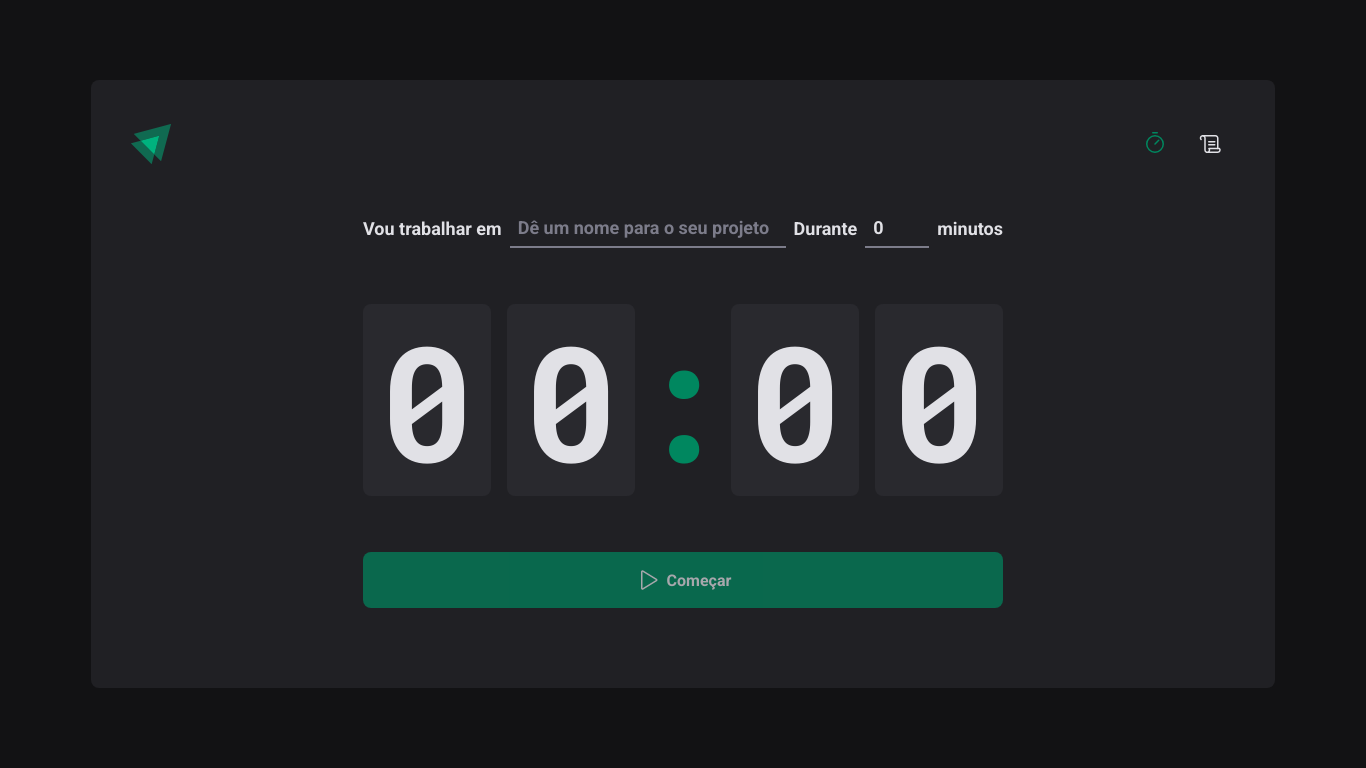
Test: form Tests › create new cycle test
Check: the button with test id "startCountdown" is disabled, box [363,552,1003,608]
Check: the form with test id "createCycle" is shown, box [363,208,1003,608]
Type "Criar Projeto" into the field with test id "taskName" at point(648, 228), box [510,208,786,248]
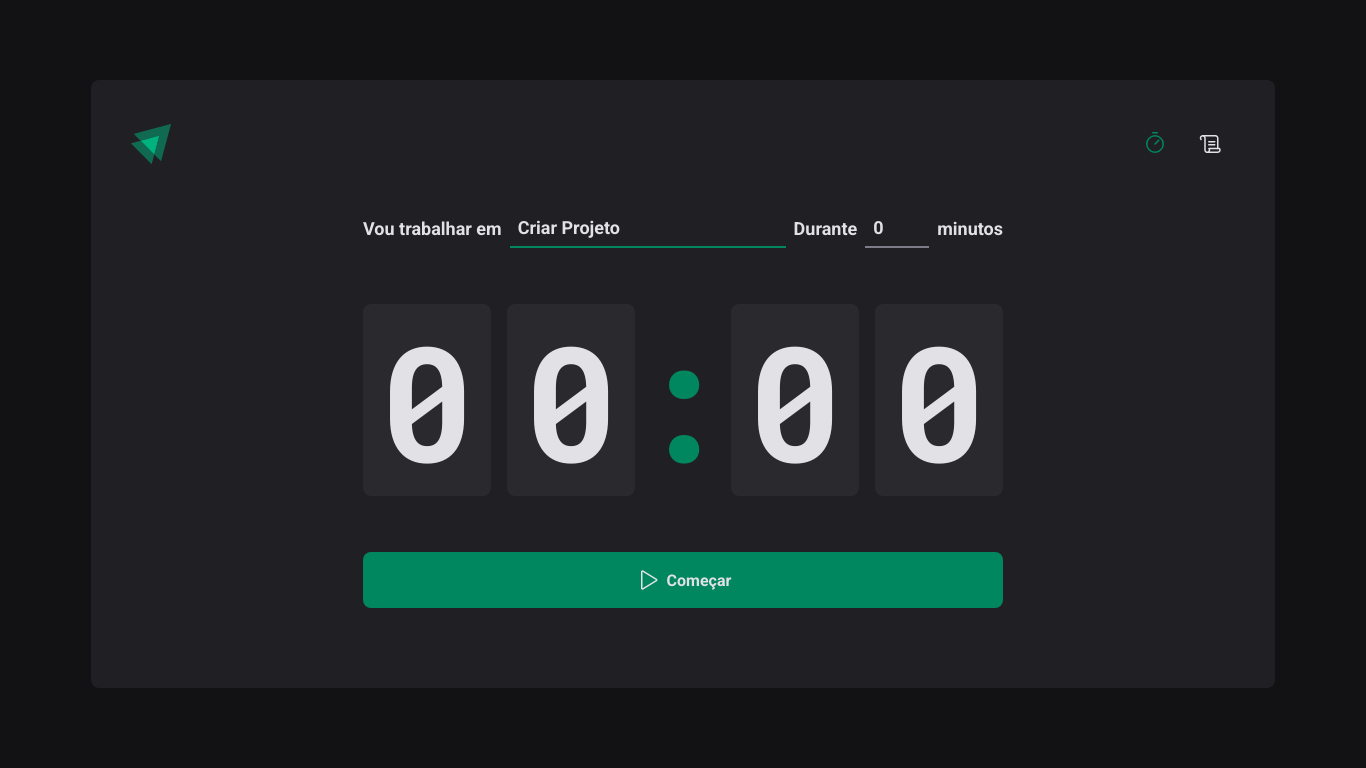
Type "5" into the number field with test id "minutesAmount" at point(897, 228), box [865,208,929,248]
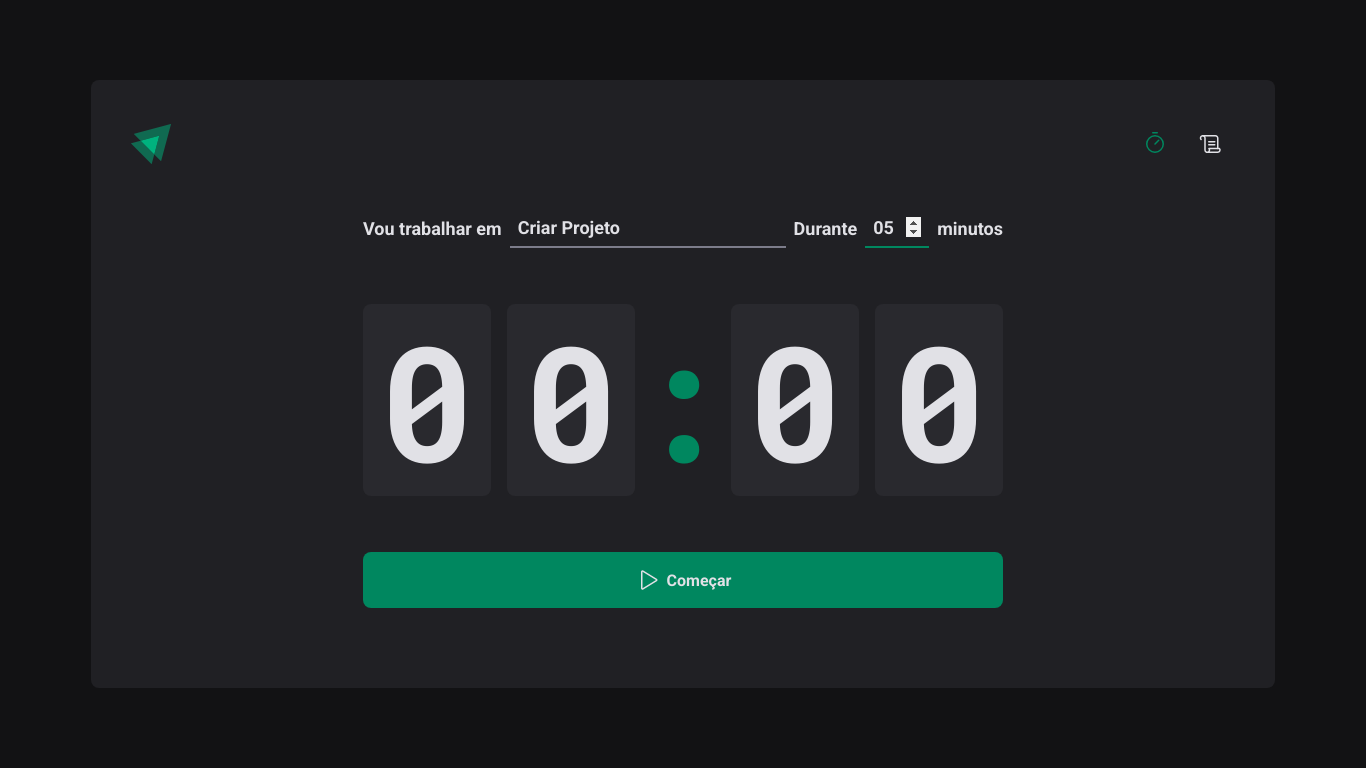
Check: the element with test id "startCountdown" is enabled
Click the button with test id "startCountdown" at point(683, 580), box [363,552,1003,608]
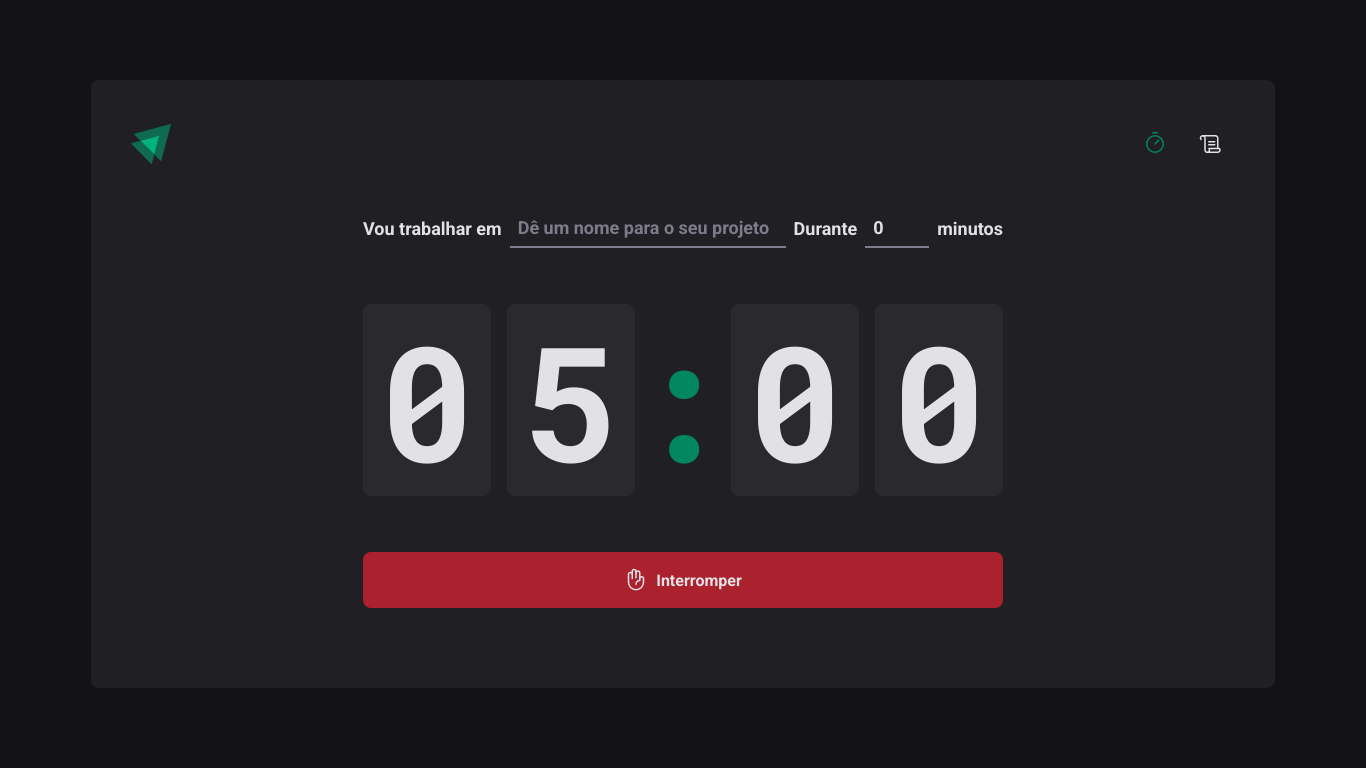
Check: the field with test id "taskName" is disabled, box [510,208,786,248]
Check: the button with test id "stopCountdown" is shown
Click the button with test id "stopCountdown" at point(683, 580), box [363,552,1003,608]
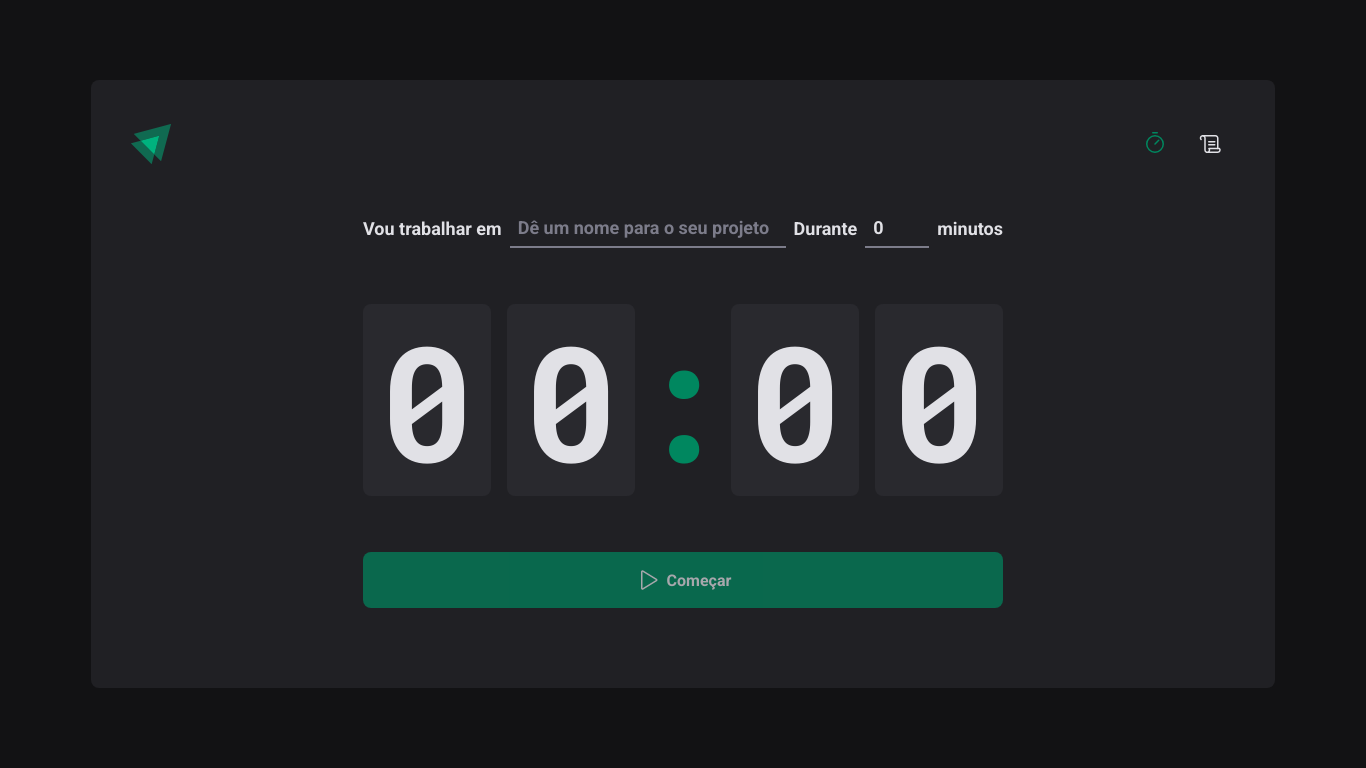
Open "/history"
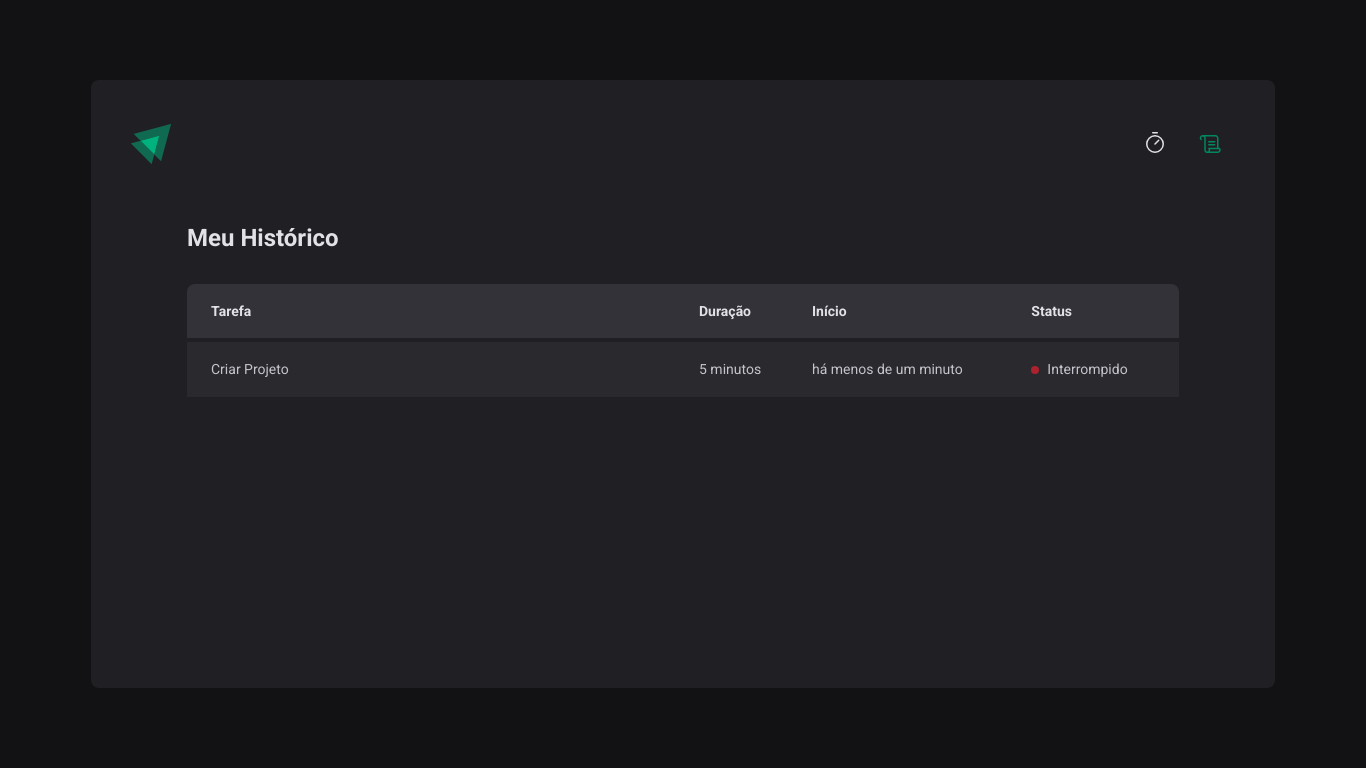
Check: the heading "Meu Histórico" is shown, box [187,224,338,252]
Check: the text "Criar Projeto" is shown, box [187,340,683,397]
